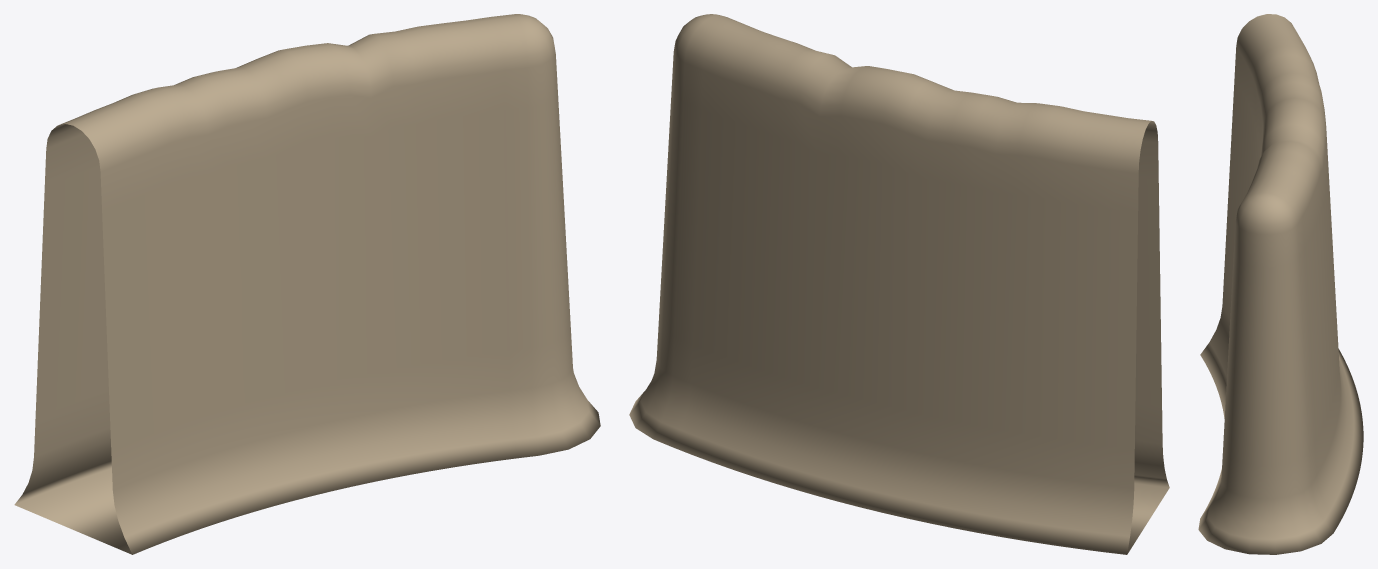
Rendered from KFB_Wall_curved_ring_r2_capA.r1.glb.
3 views of the same model, side by side, from view 1: azimuth 30°, elevation 25°; view 2: azimuth 150°, elevation 25°; view 3: azimuth 270°, elevation 25° (orthographic). The views are drawn at different scales.
Parts seen in each view (by area): view 1: KFB_Wall_curved_ring_r2_capA; view 2: KFB_Wall_curved_ring_r2_capA; view 3: KFB_Wall_curved_ring_r2_capA.
Boxes of the visible parts, <box> form: KFB_Wall_curved_ring_r2_capA: <box>14,14,600,554</box>; KFB_Wall_curved_ring_r2_capA: <box>629,14,1169,554</box>; KFB_Wall_curved_ring_r2_capA: <box>1198,14,1363,554</box>.
Size of the model in its own units: 4.99 by 3.64 by 1.62.
